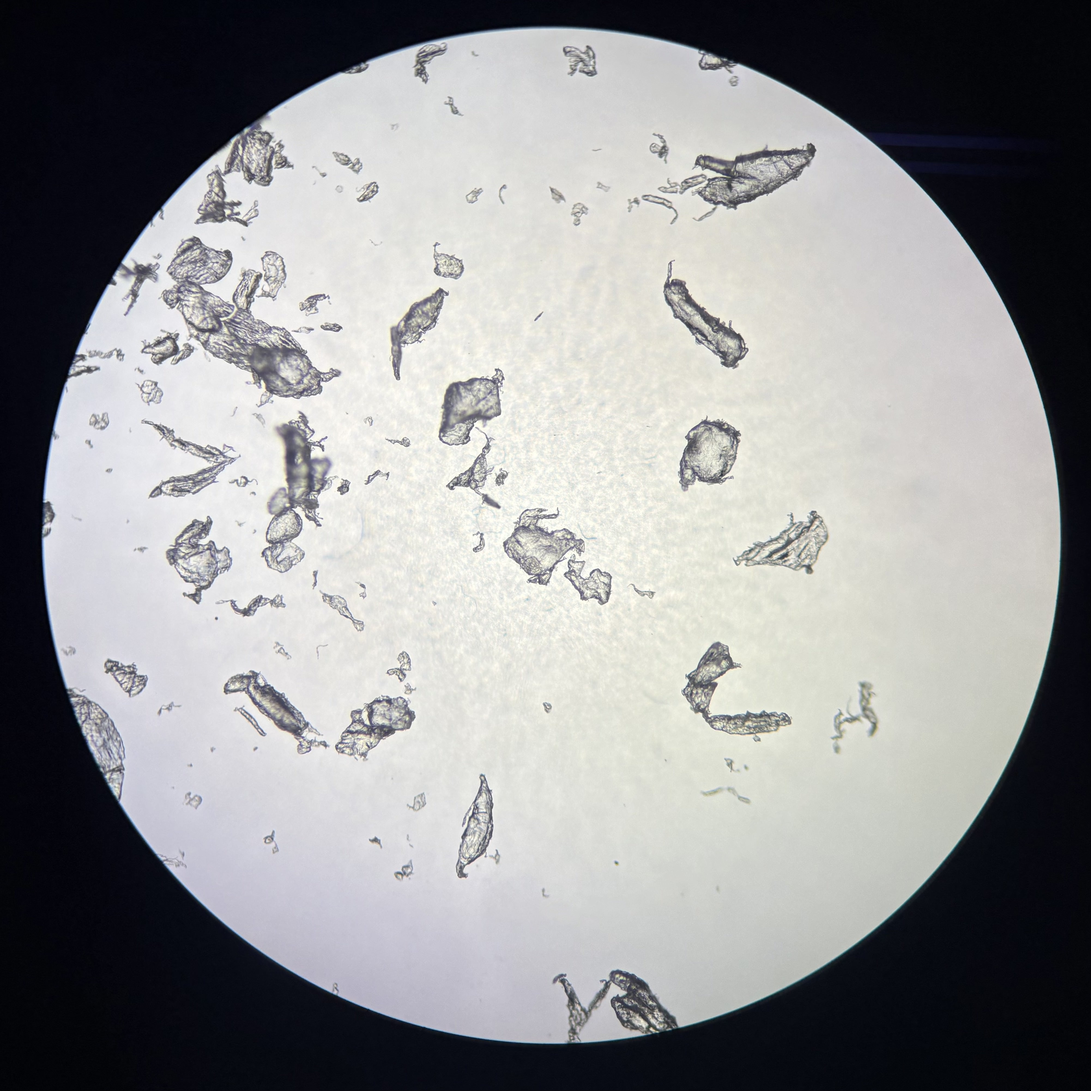microplastic: (158, 236, 342, 408), (260, 411, 340, 573), (681, 642, 793, 742), (503, 507, 613, 605), (692, 143, 817, 223), (552, 969, 679, 1045), (663, 259, 748, 370), (223, 670, 330, 758), (141, 418, 241, 499), (60, 687, 126, 804), (733, 510, 829, 574), (165, 516, 233, 605), (388, 287, 449, 381), (335, 695, 416, 761), (438, 368, 505, 446), (678, 415, 741, 492), (223, 122, 295, 188), (456, 774, 500, 878), (446, 427, 501, 510), (194, 164, 259, 228), (830, 680, 880, 754), (107, 252, 162, 316), (66, 347, 125, 394), (563, 554, 613, 606), (140, 329, 199, 366), (318, 590, 365, 633), (214, 593, 286, 618), (104, 658, 148, 698), (255, 251, 288, 302), (697, 48, 740, 87), (412, 42, 448, 85), (433, 242, 465, 280), (641, 195, 679, 225), (563, 46, 598, 77), (658, 173, 707, 195), (234, 705, 266, 737), (700, 786, 750, 804), (385, 651, 412, 682), (134, 380, 164, 406), (332, 151, 363, 176), (299, 293, 332, 316), (153, 848, 187, 868), (650, 132, 669, 164), (42, 500, 56, 539), (393, 858, 416, 881), (355, 181, 379, 203), (627, 583, 657, 599), (364, 470, 390, 486), (571, 203, 589, 226), (444, 96, 464, 116), (407, 792, 427, 812), (263, 831, 280, 854), (724, 757, 750, 772), (158, 701, 182, 717), (89, 412, 109, 431), (228, 475, 258, 487), (183, 791, 203, 809), (341, 62, 370, 74), (273, 642, 291, 660), (149, 207, 165, 227), (385, 436, 411, 448), (549, 186, 566, 204), (473, 530, 485, 553), (466, 188, 483, 204), (494, 468, 509, 486), (320, 322, 343, 333), (337, 478, 351, 496), (315, 644, 329, 660), (355, 581, 367, 599), (252, 413, 266, 427), (627, 198, 640, 213), (312, 165, 327, 178), (291, 326, 315, 334), (403, 683, 417, 696), (596, 181, 611, 193), (499, 184, 507, 205), (311, 570, 319, 590), (369, 836, 382, 848), (133, 546, 149, 554), (406, 833, 413, 849), (364, 416, 374, 427), (534, 311, 544, 322), (369, 238, 382, 246), (135, 367, 146, 376), (543, 702, 552, 713), (235, 520, 247, 528), (84, 439, 93, 449), (230, 407, 238, 418), (105, 467, 113, 474), (249, 492, 257, 497), (432, 600, 437, 606), (241, 236, 246, 241)
